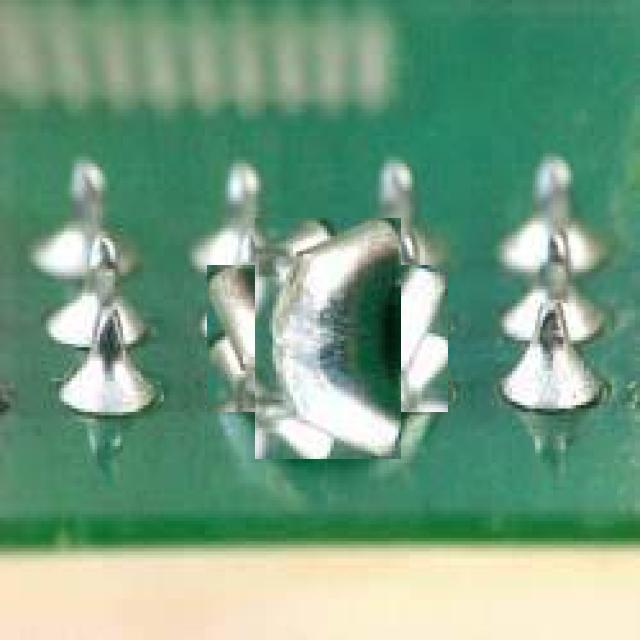Short_circuit: (231, 242, 424, 435)
